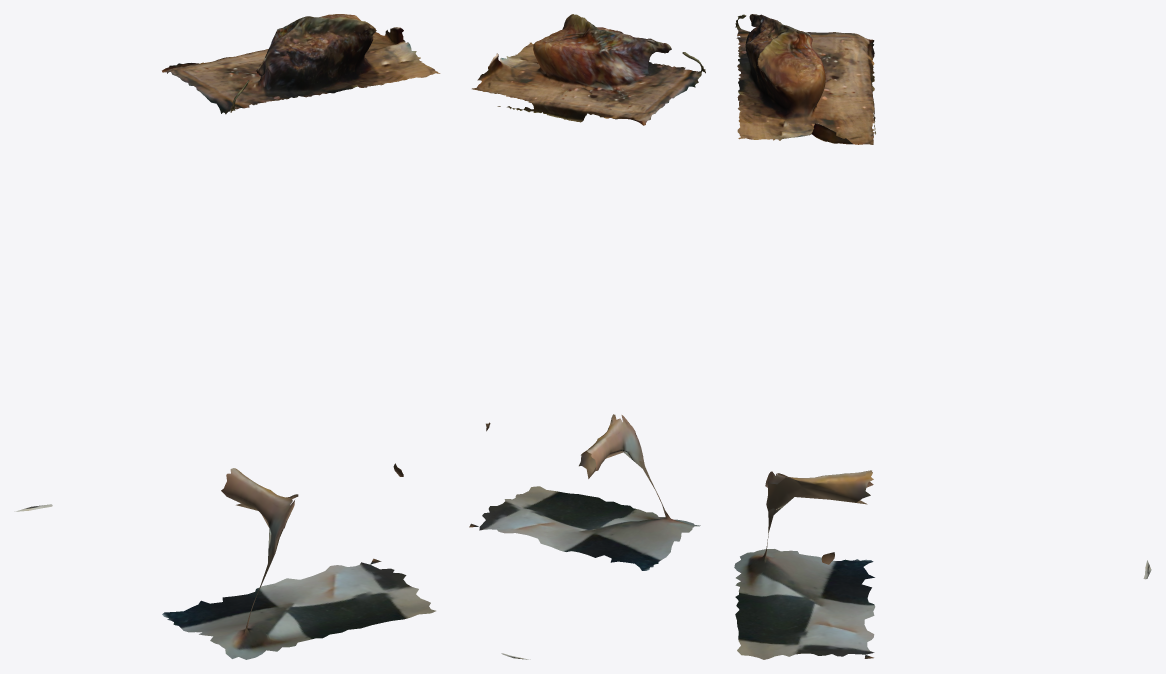
File: bife600.glb
3 renders of one model, left to right at view 1: azimuth 30°, elevation 25°; view 2: azimuth 150°, elevation 25°; view 3: azimuth 270°, elevation 25°, orthographic. The views are drawn at different scales.
Parts seen in each view (by area): view 1: 3DModel; view 2: 3DModel; view 3: 3DModel.
Part boxes in pixels (<box>): 3DModel: <box>14,14,440,659</box>; 3DModel: <box>469,14,705,659</box>; 3DModel: <box>734,14,1151,659</box>.
Bounding box in the file's own units: 0.5466 × 1.43 × 0.9278.
Materials: 1 (1 with a texture image).
